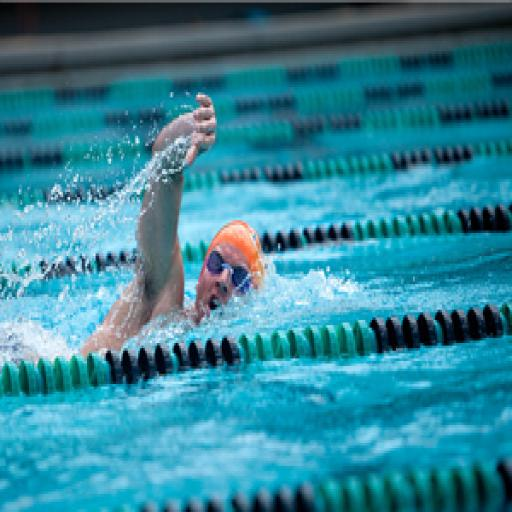swimming: (0, 87, 270, 387)
